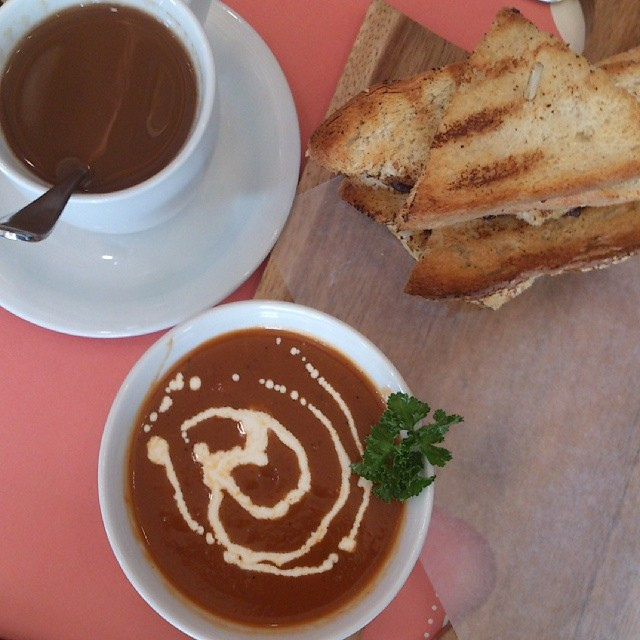slice of bread: (311, 54, 635, 295), (410, 3, 632, 227)
